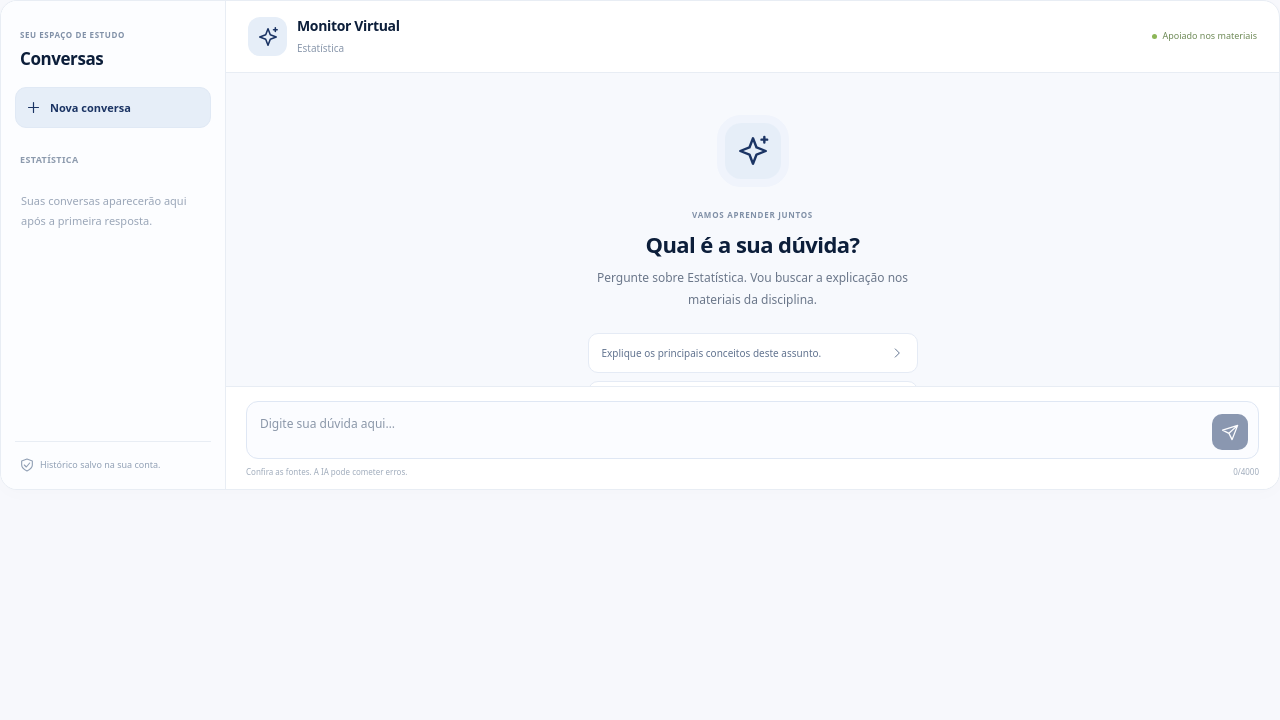
Histórico do Monitor Virtual › recupera a pergunta quando o envio falha sem manter resposta incompleta
The image size is (1280, 720).
Type "Minha dúvida" into the text box at (732, 430), box [260,410,1204,450]
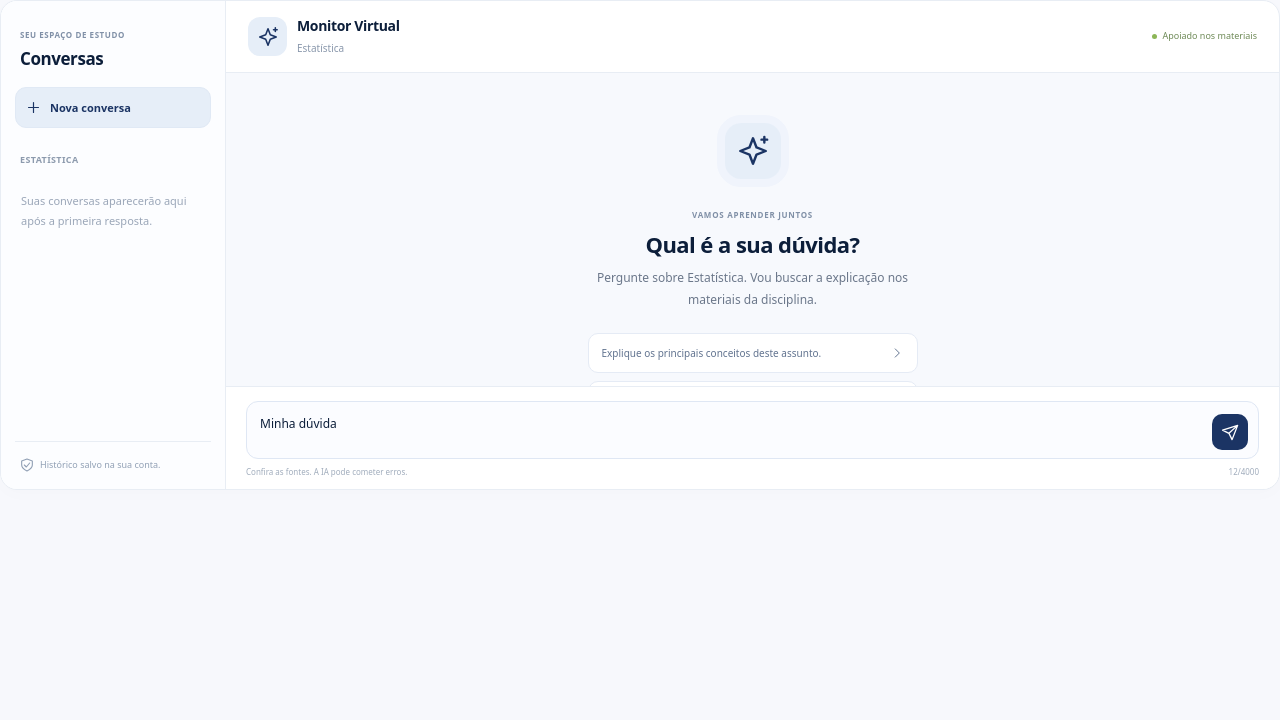
Click the button named "Enviar pergunta" at (1230, 432), box [1212,414,1248,450]
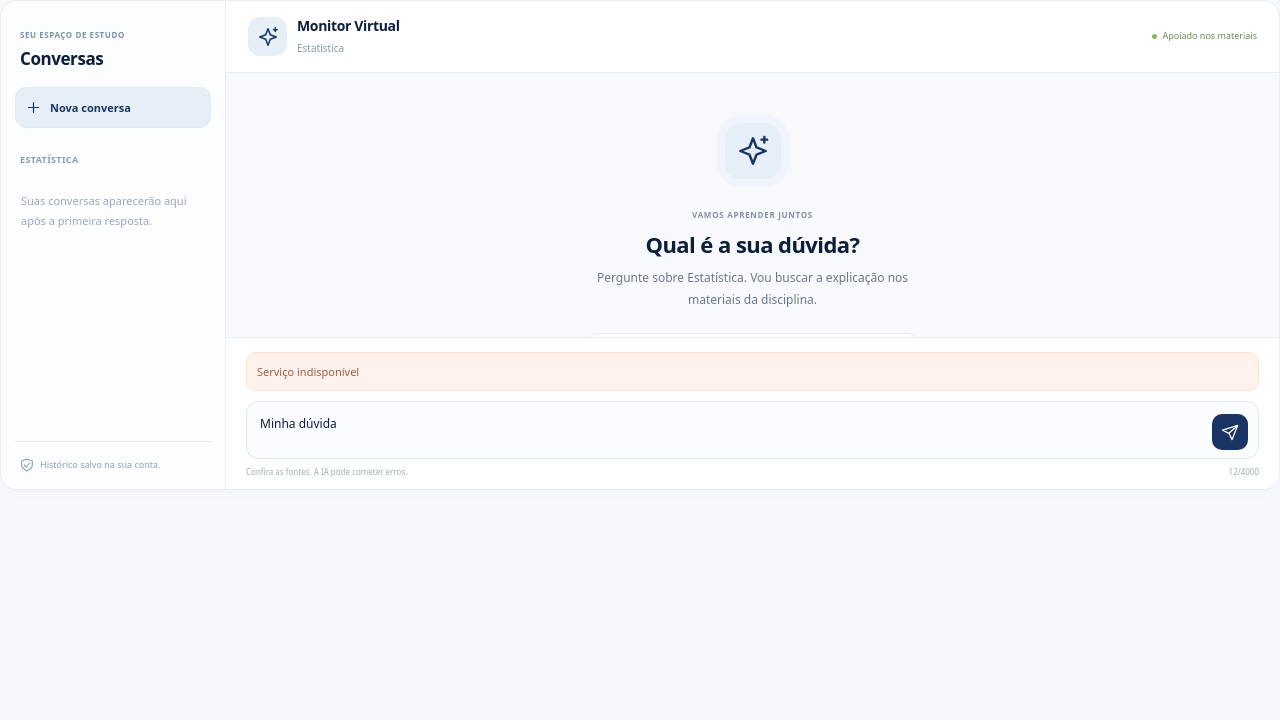
Expected: the text box is enabled, [260,410,1204,450]
Expected: the message reads "Serviço indisponível", [257,364,359,379]
